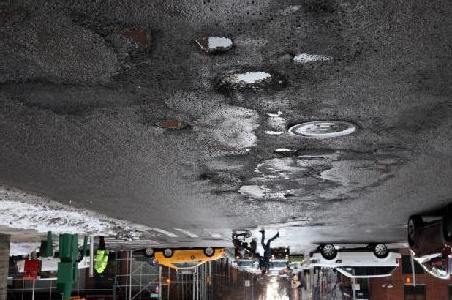pothole: (212, 66, 283, 95), (114, 23, 159, 57), (191, 32, 236, 59), (145, 117, 192, 135), (272, 147, 296, 157)
